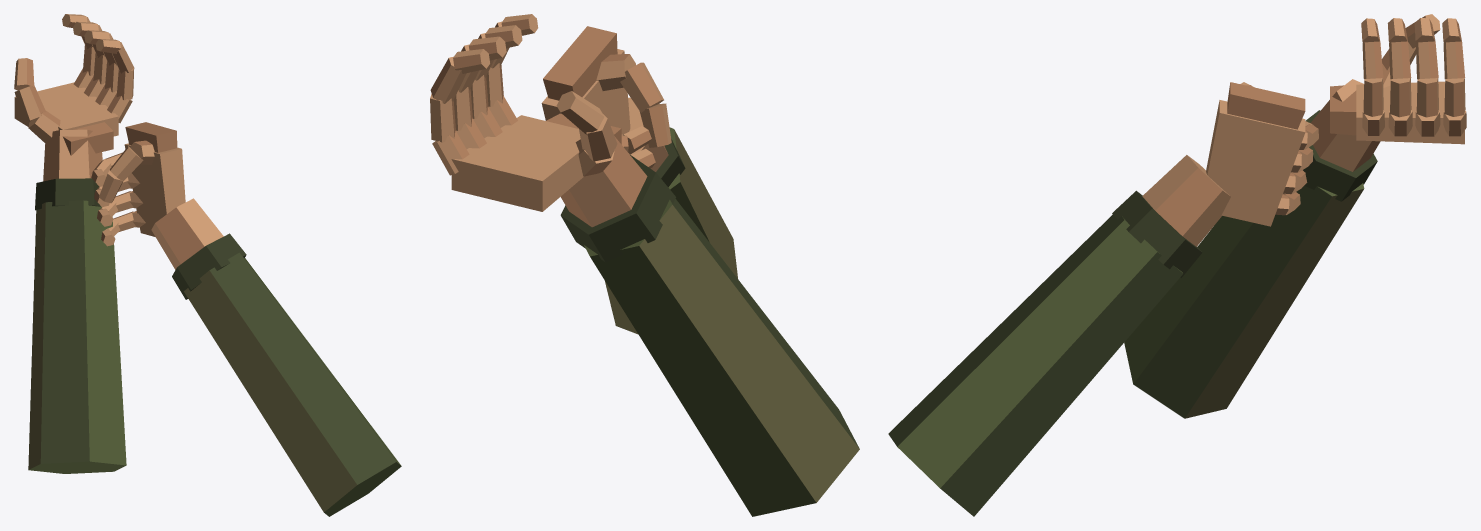
Rendered from maos_wf_uzi.glb.
The picture shows the model from 3 angles, left to right: view 1: azimuth 30°, elevation 25°; view 2: azimuth 150°, elevation 25°; view 3: azimuth 270°, elevation 25°; orthographic projection. The views are drawn at different scales.
Parts seen in each view (by area): view 1: MaoE, MaoD; view 2: MaoE, MaoD; view 3: MaoD, MaoE.
Part boxes in pixels (x1=…): MaoE: x1=14, y1=14, x2=134, y2=473; MaoD: x1=91, y1=122, x2=401, y2=516; MaoE: x1=430, y1=14, x2=859, y2=516; MaoD: x1=541, y1=26, x2=737, y2=334; MaoD: x1=888, y1=82, x2=1318, y2=516; MaoE: x1=1124, y1=14, x2=1466, y2=418.
Bounding box in the file's own units: 0.3394 × 0.4487 × 0.5227.
